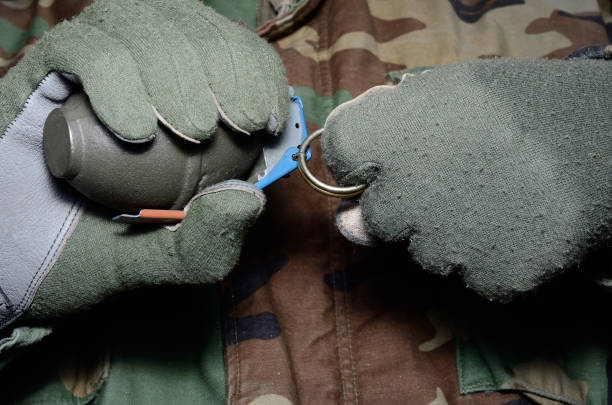e1: (43, 71, 372, 221)
